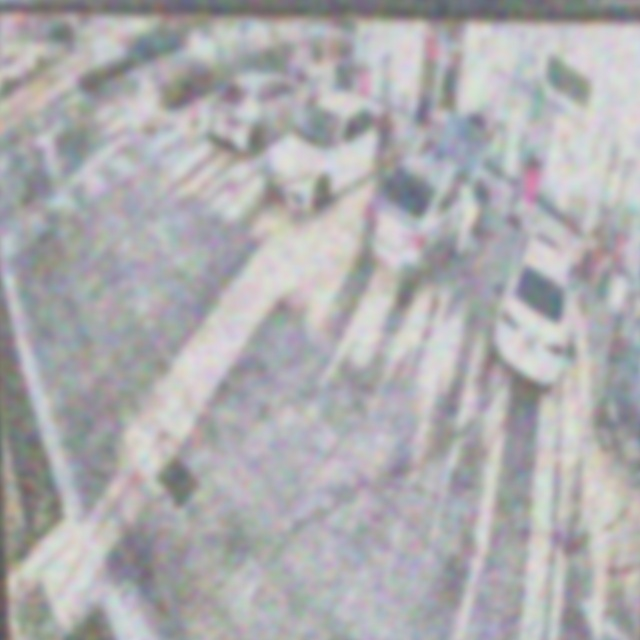Car: (363, 117, 483, 281), (266, 95, 394, 209), (495, 222, 577, 387), (212, 70, 320, 158)
